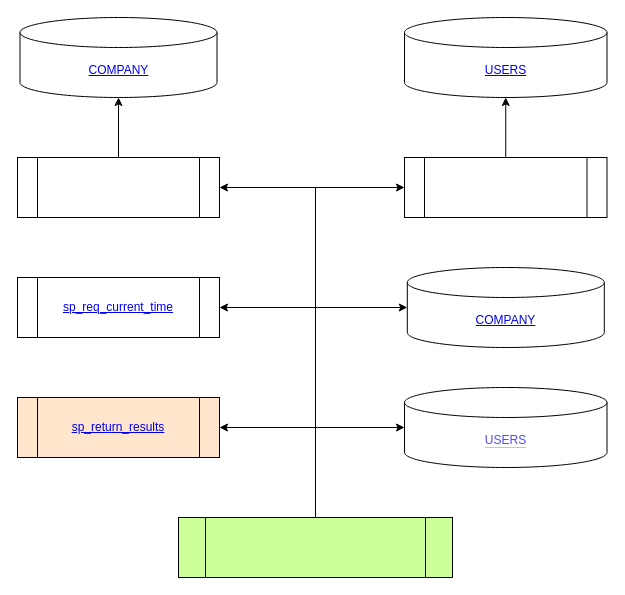
This 625x595 diagram has some shape labels left out. The centre of each missing label's shape, as x and y in pixels:
"sp_req_company_exists" belongs at point (118, 187).
"sp_req_user_exists_by_id" belongs at point (505, 187).
"sp_update_company_permit_info" belongs at point (315, 547).
